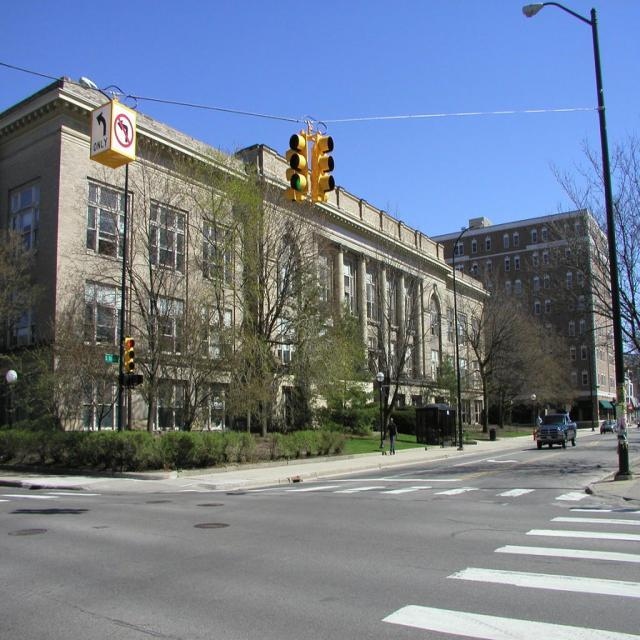off traffic light: (310, 138, 336, 198)
traffic light: (288, 137, 310, 194)
